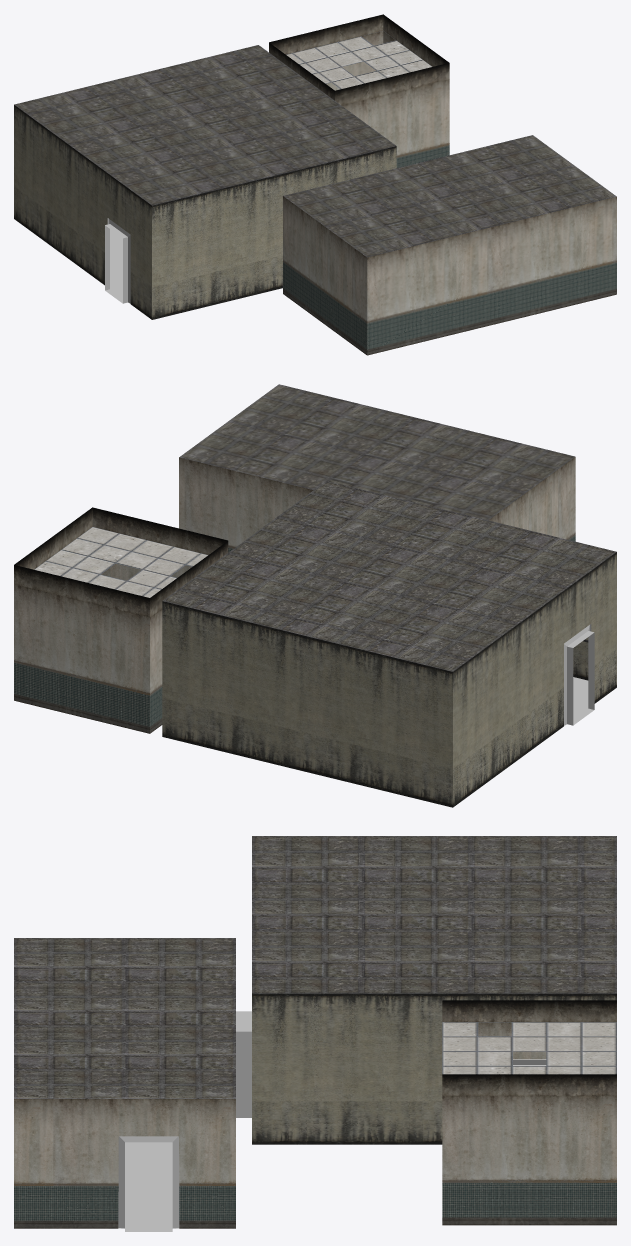
Rendered from Kitchen_3x3.FBX.
The picture shows the model from 3 angles, top to bottom: view 1: azimuth 30°, elevation 25°; view 2: azimuth 150°, elevation 25°; view 3: azimuth 270°, elevation 25°; orthographic projection. The views are drawn at different scales.
Visible parts, largest first — view 1: KitchenA_3x3, KitchenB_3x3, KitchenC_3x3; view 2: KitchenA_3x3, KitchenB_3x3, KitchenC_3x3; view 3: KitchenA_3x3, KitchenB_3x3, KitchenC_3x3.
Boxes of the visible parts, <box> form: KitchenA_3x3: <box>14,45,396,319</box>; KitchenB_3x3: <box>283,135,616,355</box>; KitchenC_3x3: <box>269,14,449,167</box>; KitchenA_3x3: <box>162,481,616,807</box>; KitchenB_3x3: <box>179,384,575,552</box>; KitchenC_3x3: <box>14,507,228,733</box>; KitchenA_3x3: <box>252,836,616,1144</box>; KitchenB_3x3: <box>14,938,251,1231</box>; KitchenC_3x3: <box>442,1000,616,1225</box>.
Size of what is drawn, in the model's own units: 1457 by 413 by 1496.
